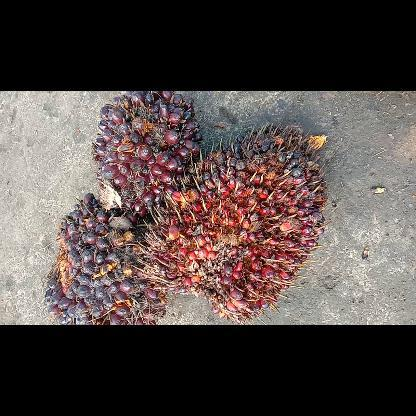Kurang masak: (43, 194, 166, 324), (91, 92, 201, 216)
TBS masak: (144, 128, 324, 324)
